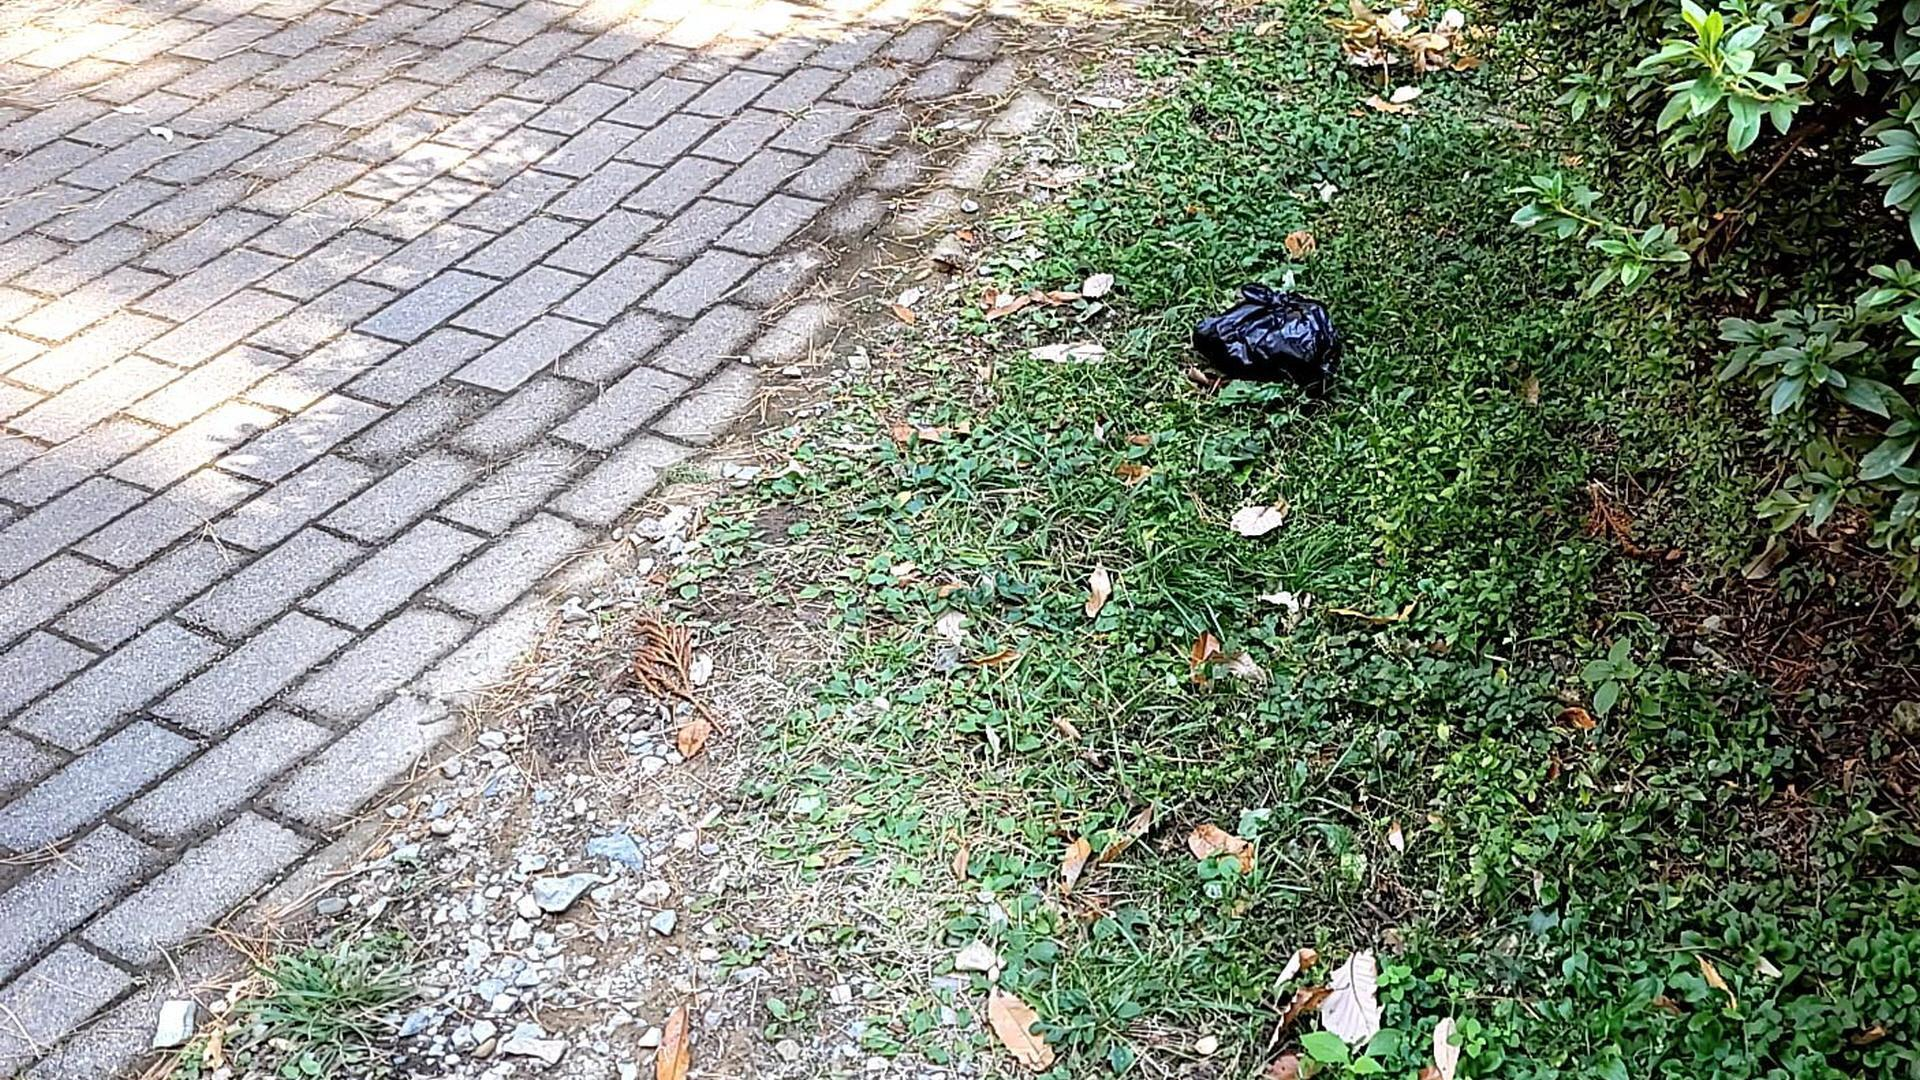black_bag: (1185, 277, 1342, 401)
